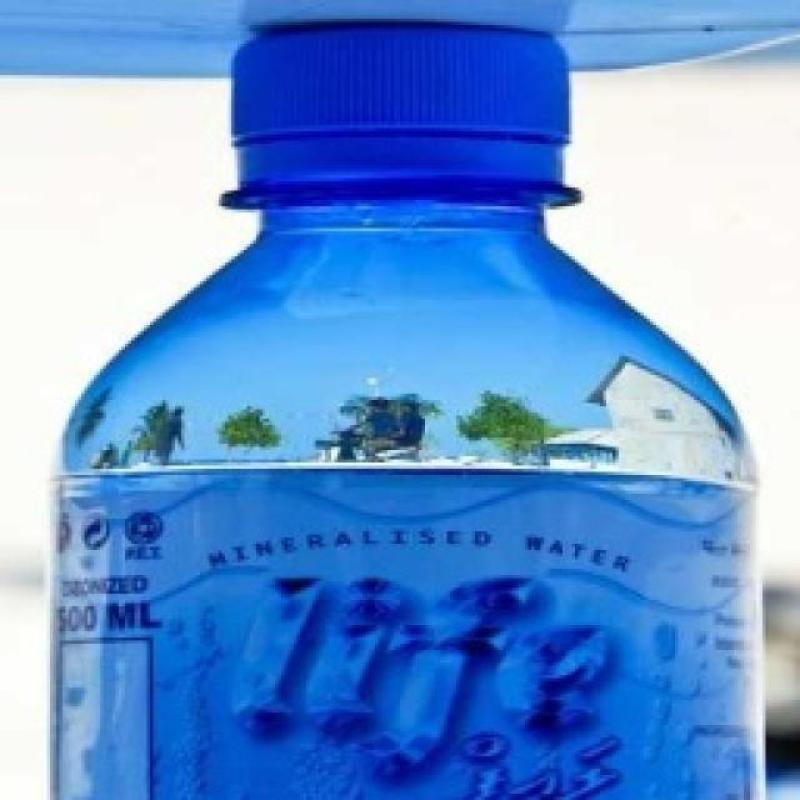botella: (51, 25, 768, 800)
